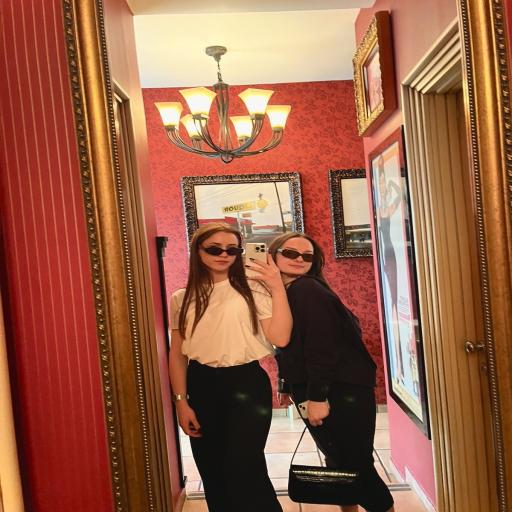marija: (274, 235, 322, 278)
masa: (198, 232, 244, 276)
